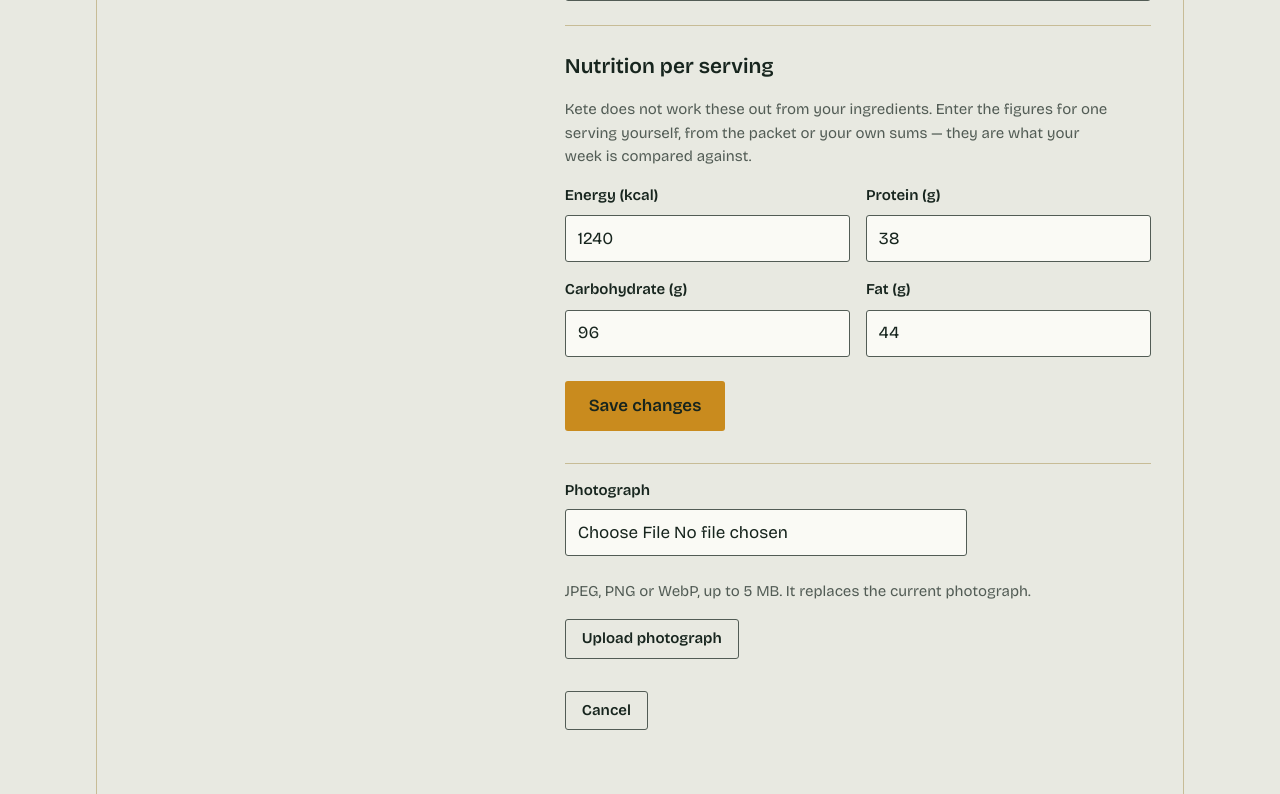
Test: what a screen says when a write worked › says the changes are saved once the edit view has closed
(page scrolled)
Click the button "Save changes" at (645, 406), box 565,381 -> 725,431
(page scrolled)
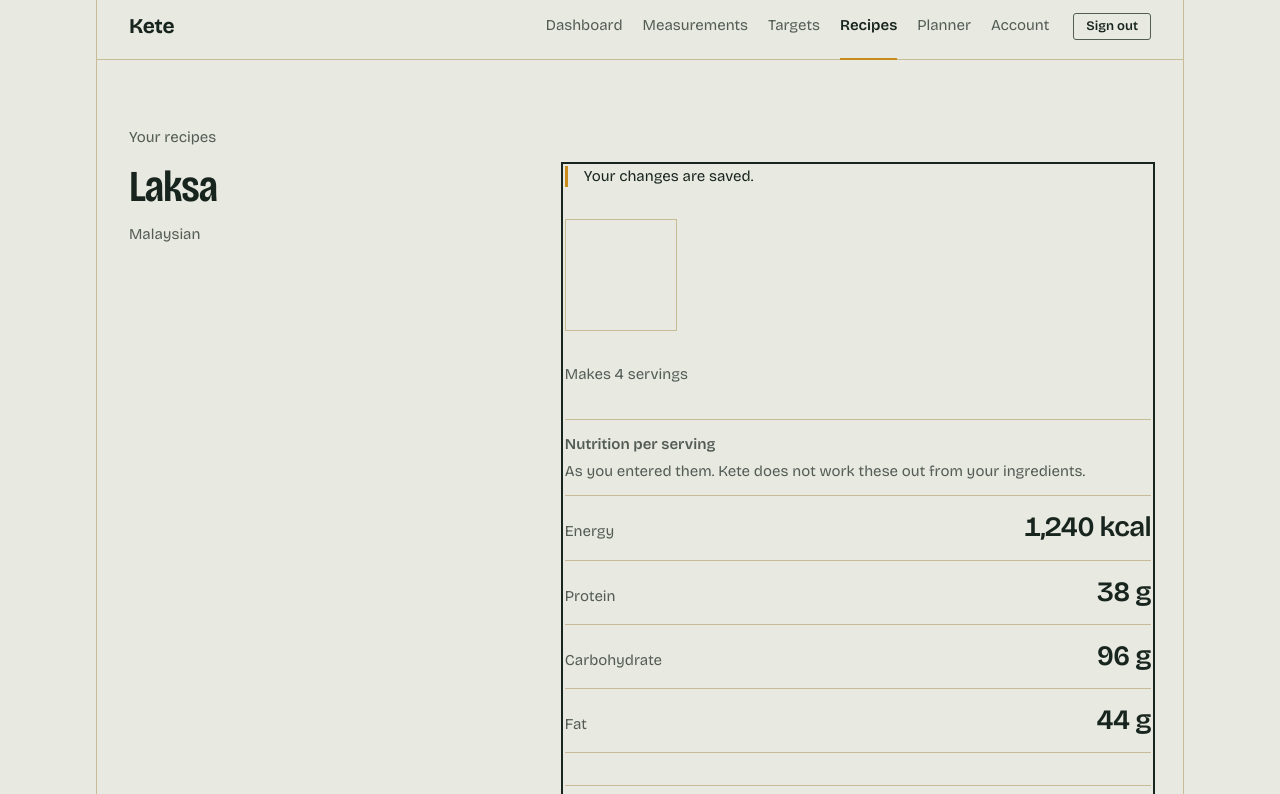
Now the text "Your changes are saved." is shown, box 565,166 -> 1151,187
